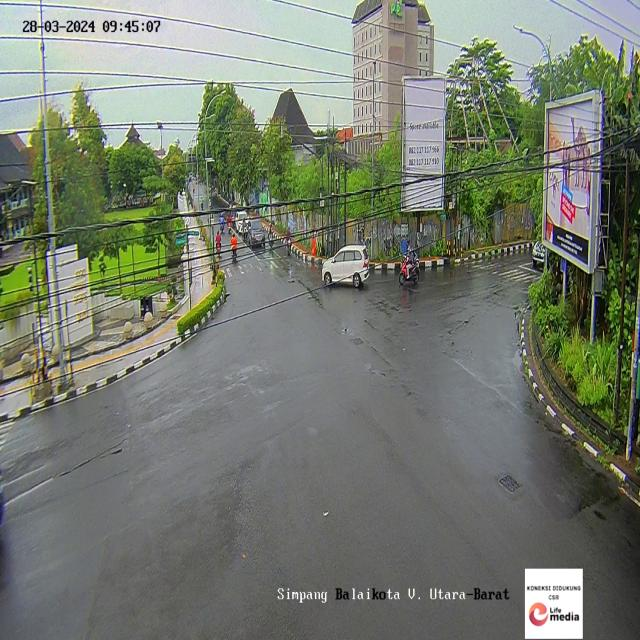car: (319, 243, 375, 290), (529, 235, 554, 272), (247, 220, 265, 252)
motorcycle: (399, 245, 420, 284), (230, 231, 239, 267), (285, 225, 292, 257), (215, 230, 222, 258), (267, 223, 273, 252)
